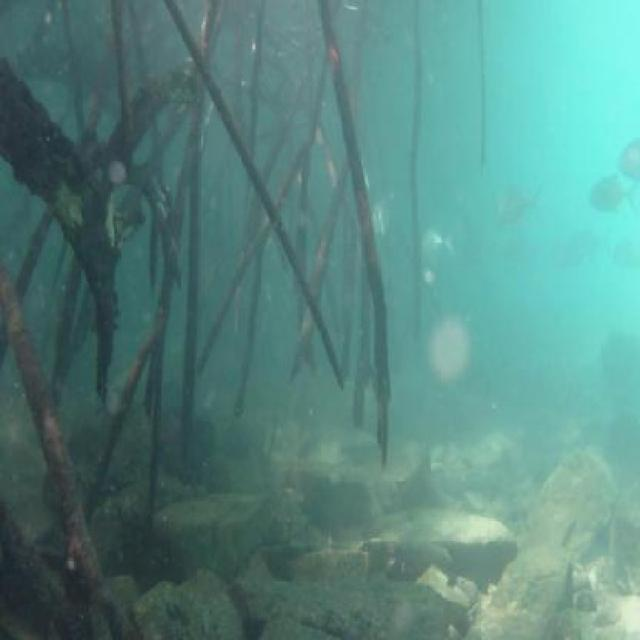Caranx_sexfasciatus_juvenile: (486, 178, 548, 233), (552, 229, 616, 280), (415, 222, 468, 276), (590, 167, 638, 222), (618, 138, 640, 182)
